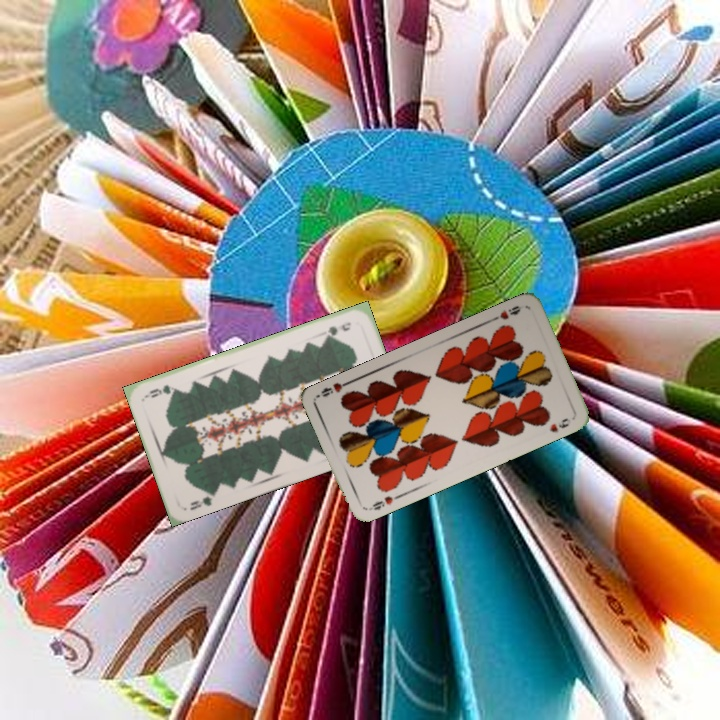G9: (186, 487, 219, 513), (322, 318, 353, 339)
H9: (487, 302, 526, 324), (364, 491, 403, 513)
